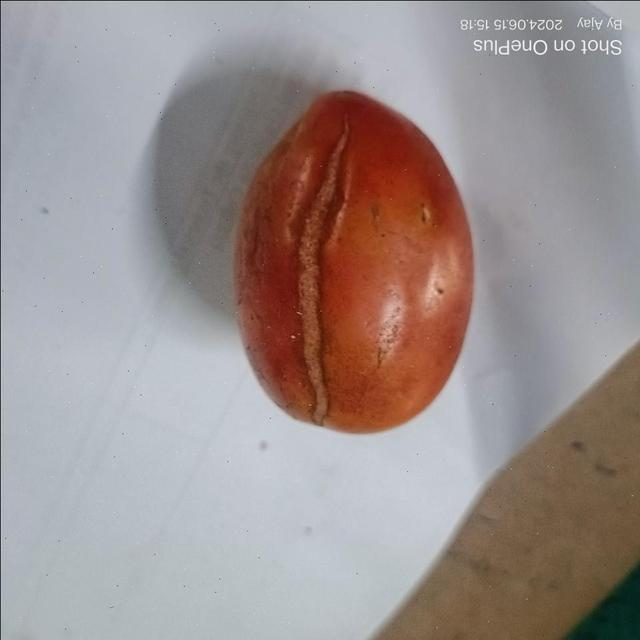Cracking Fruit: (133, 1, 330, 145)
